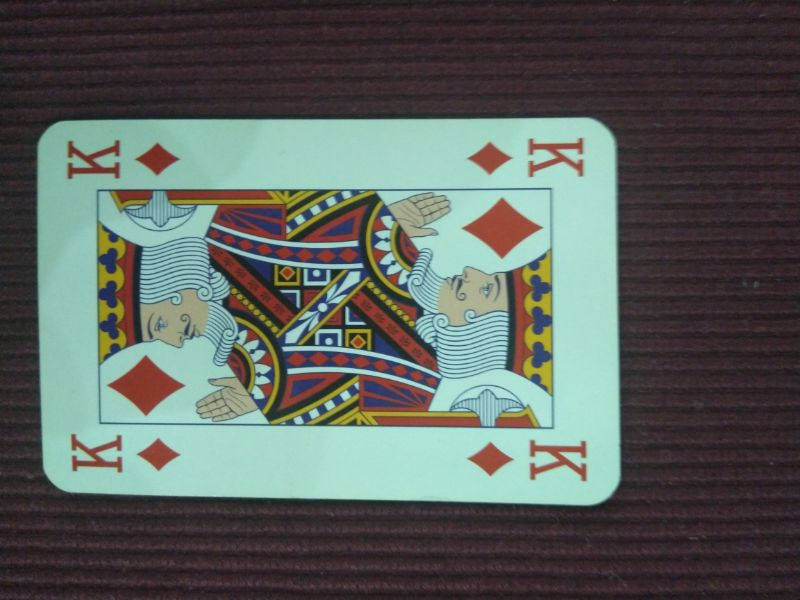Kd: (465, 433, 594, 489), (465, 132, 591, 182), (62, 429, 183, 479), (58, 138, 188, 182)
